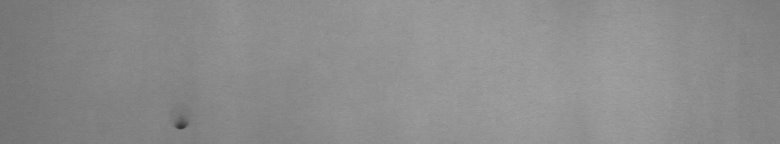fi: (172, 112, 191, 136)
